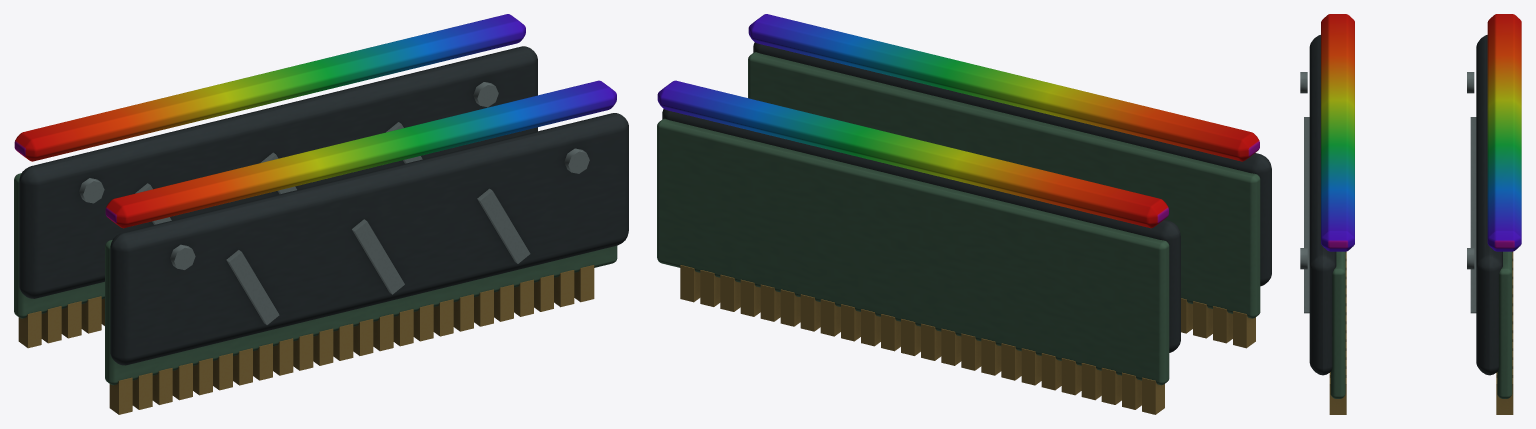
Rendered from ram_pair.obj.
3 renders of one model, left to right at view 1: azimuth 30°, elevation 25°; view 2: azimuth 150°, elevation 25°; view 3: azimuth 270°, elevation 25°, orthographic. The views are drawn at different scales.
Parts seen in each view (by area): view 1: ram_pair_static_0, ram_pair_rgb_0_1, ram_pair_rgb_1_2; view 2: ram_pair_static_0, ram_pair_rgb_1_2, ram_pair_rgb_0_1; view 3: ram_pair_static_0, ram_pair_rgb_1_2, ram_pair_rgb_0_1.
Part boxes in pixels (bbox=[...]): ram_pair_static_0: bbox=[14, 46, 628, 414]; ram_pair_rgb_0_1: bbox=[105, 80, 616, 228]; ram_pair_rgb_1_2: bbox=[14, 14, 525, 161]; ram_pair_static_0: bbox=[657, 42, 1271, 414]; ram_pair_rgb_1_2: bbox=[657, 80, 1168, 228]; ram_pair_rgb_0_1: bbox=[748, 14, 1259, 161]; ram_pair_static_0: bbox=[1300, 35, 1513, 414]; ram_pair_rgb_1_2: bbox=[1487, 14, 1521, 251]; ram_pair_rgb_0_1: bbox=[1321, 14, 1354, 251].
Bounding box in the file's own units: 0.144 × 0.0555 × 0.0585.
Materials: 3 (3 with a texture image).
